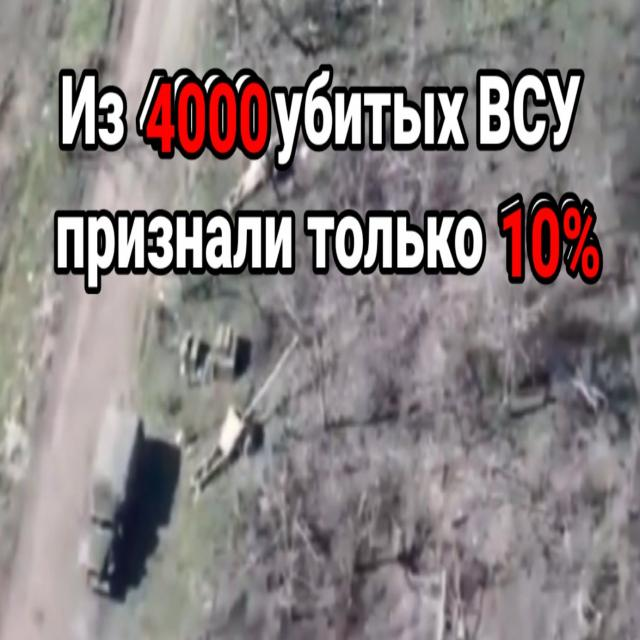cars: (79, 407, 144, 597), (192, 403, 257, 493)
